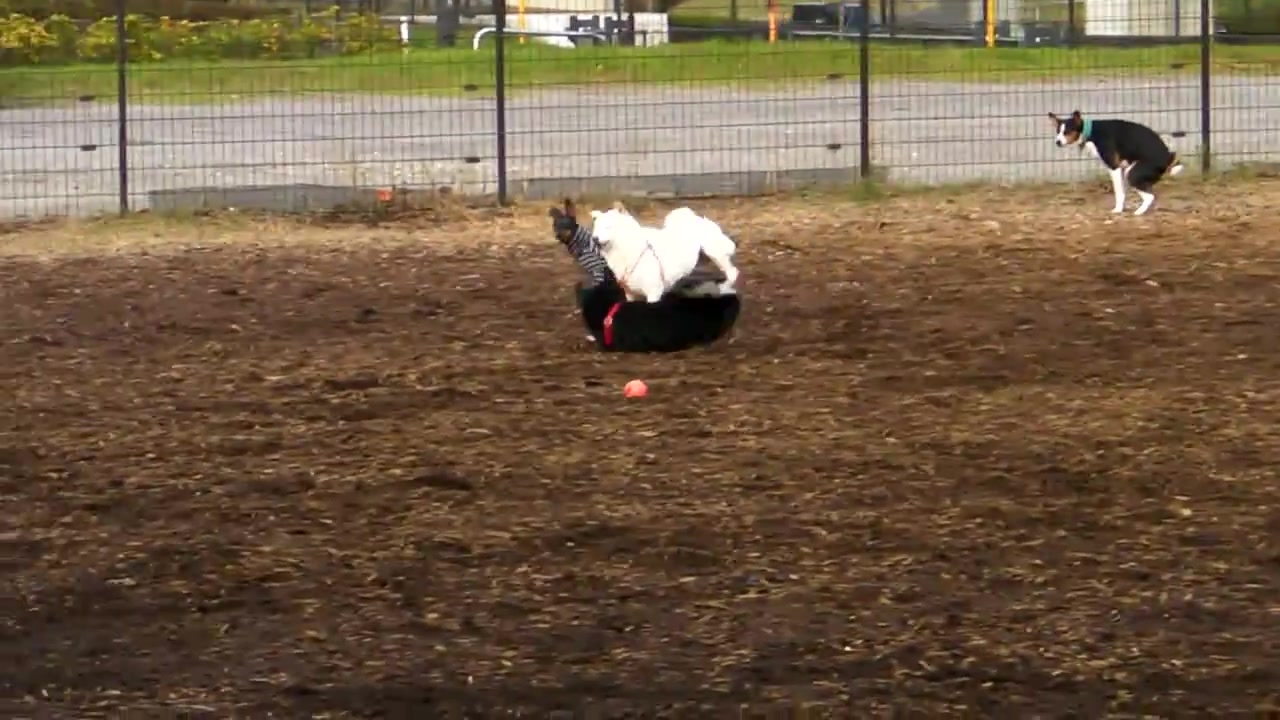dog: (1044, 108, 1175, 219)
